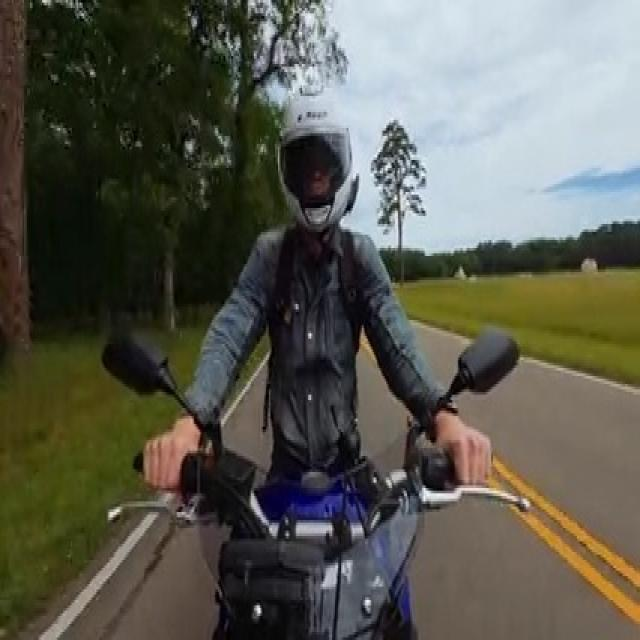Helmet_Wearer: (268, 63, 360, 236)
Person: (140, 79, 491, 506)
